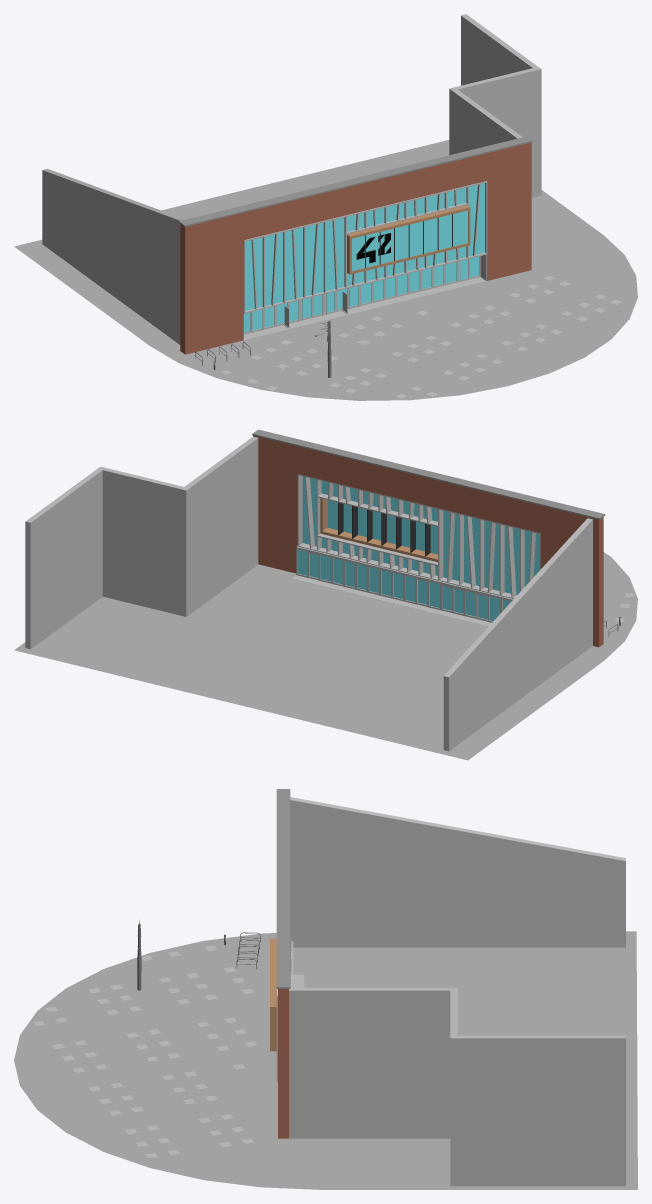
File: BuildingTest.glb
The picture shows the model from 3 angles, top to bottom: view 1: azimuth 30°, elevation 25°; view 2: azimuth 150°, elevation 25°; view 3: azimuth 270°, elevation 25°; orthographic projection. The views are drawn at different scales.
Parts seen in each view (by area): view 1: aro; view 2: aro; view 3: aro.
Boxes of the visible parts, box(x1,y1,x2,y2) form: aro: box(14, 14, 637, 400); aro: box(14, 429, 637, 760); aro: box(14, 789, 637, 1189).
Size of the model in its own units: 20.02 by 5.67 by 20.41.
